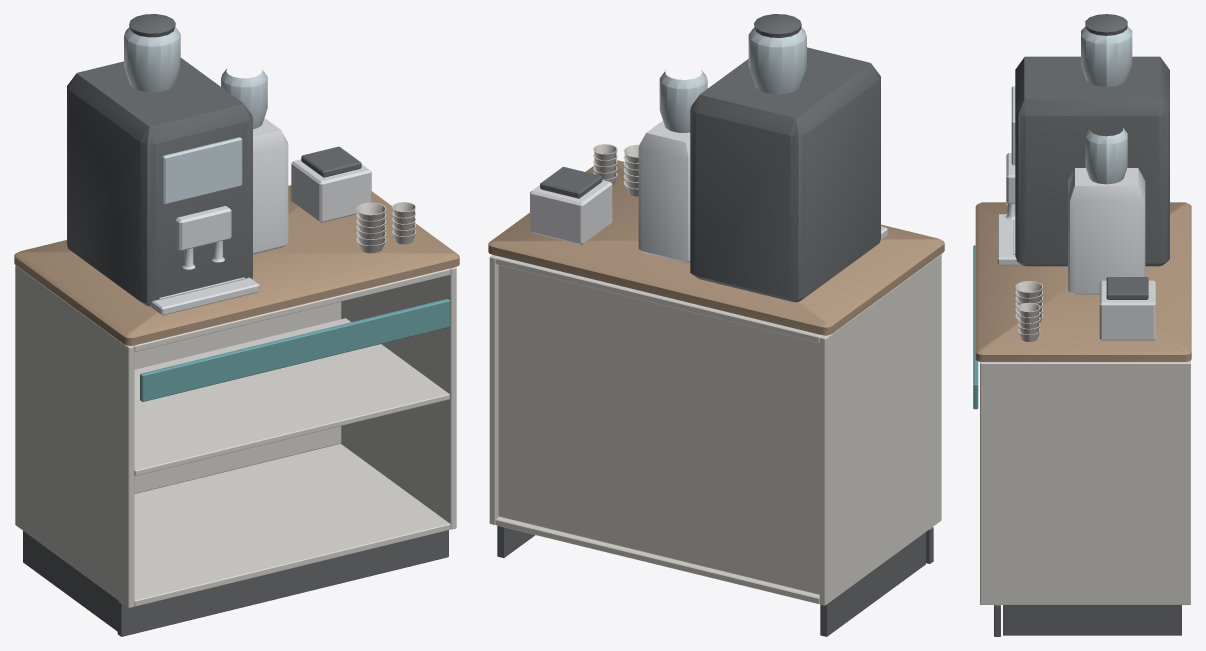
File: hotel-and-resort-operations-coffee-station-0e077709__25905.glb
3 views of the same model, side by side, from view 1: azimuth 30°, elevation 25°; view 2: azimuth 150°, elevation 25°; view 3: azimuth 270°, elevation 25° (orthographic). The views are drawn at different scales.
Visible parts, largest first — view 1: coffee-station; view 2: coffee-station; view 3: coffee-station.
Boxes of the visible parts, <box> form: coffee-station: <box>14,14,459,636</box>; coffee-station: <box>488,14,944,636</box>; coffee-station: <box>973,14,1191,636</box>.
Size of the model in its own units: 1.02 by 1.6 by 0.621.
